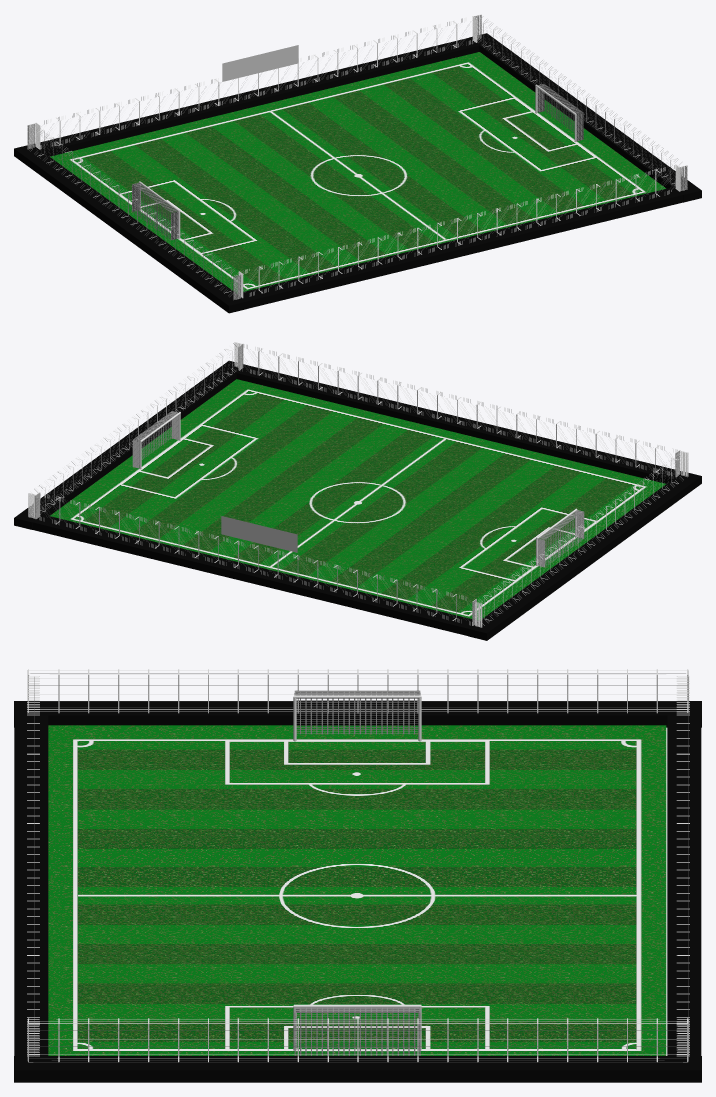
File: stadium.fbx
3 views of the same model, one above another, from view 1: azimuth 30°, elevation 25°; view 2: azimuth 150°, elevation 25°; view 3: azimuth 270°, elevation 25° (orthographic). The views are drawn at different scales.
Parts seen in each view (by area): view 1: Plane, Cube, Cube.001, Cube.003, Cube.002, Cube.004, Cube.005, Cube.007, Cube.006, Plane.001, Cube.020, Cube.021; view 2: Plane, Cube.001, Cube, Cube.003, Cube.002, Cube.004, Cube.005, Cube.007, Cube.006, Plane.001, Cube.020, Cube.021; view 3: Plane, Cube.002, Cube.003, Cube, Cube.001, Cube.006, Cube.007, Cube.021, Cube.020, Cube.005, Cube.004.
Boxes of the visible parts, x1,y1,x2,y2 form: Plane: (50, 52, 665, 293); Cube: (243, 187, 683, 308); Cube.001: (34, 38, 479, 156); Cube.003: (14, 144, 247, 313); Cube.002: (469, 33, 701, 202); Cube.004: (238, 164, 680, 298); Cube.005: (35, 16, 477, 149); Cube.007: (27, 123, 240, 299); Cube.006: (474, 14, 687, 190); Plane.001: (222, 45, 298, 81); Cube.020: (132, 182, 177, 240); Cube.021: (537, 84, 583, 141); Plane: (50, 379, 665, 619); Cube.001: (32, 514, 477, 636); Cube: (236, 365, 682, 483); Cube.003: (468, 472, 701, 640); Cube.002: (14, 360, 246, 529); Cube.004: (238, 343, 680, 477); Cube.005: (35, 492, 476, 625); Cube.007: (475, 451, 688, 627); Cube.006: (28, 342, 241, 518); Plane.001: (221, 516, 297, 552); Cube.020: (538, 510, 584, 567); Cube.021: (132, 411, 178, 468); Plane: (48, 725, 666, 1055); Cube.002: (14, 1056, 701, 1082); Cube.003: (14, 701, 701, 727); Cube: (14, 715, 48, 1056); Cube.001: (667, 715, 701, 1056); Cube.006: (27, 1018, 688, 1062); Cube.007: (27, 669, 688, 713); Cube.021: (294, 1007, 420, 1055); Cube.020: (294, 690, 420, 734); Cube.005: (676, 676, 689, 1056); Cube.004: (27, 676, 39, 1056).
Bounding box in the file's own units: 201 × 20.69 × 158.
